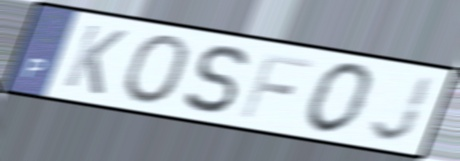F: (236, 50, 317, 121)
J: (367, 72, 438, 144)
K: (59, 21, 131, 98)
O: (301, 59, 379, 137), (119, 33, 192, 107)
S: (180, 43, 251, 117)
